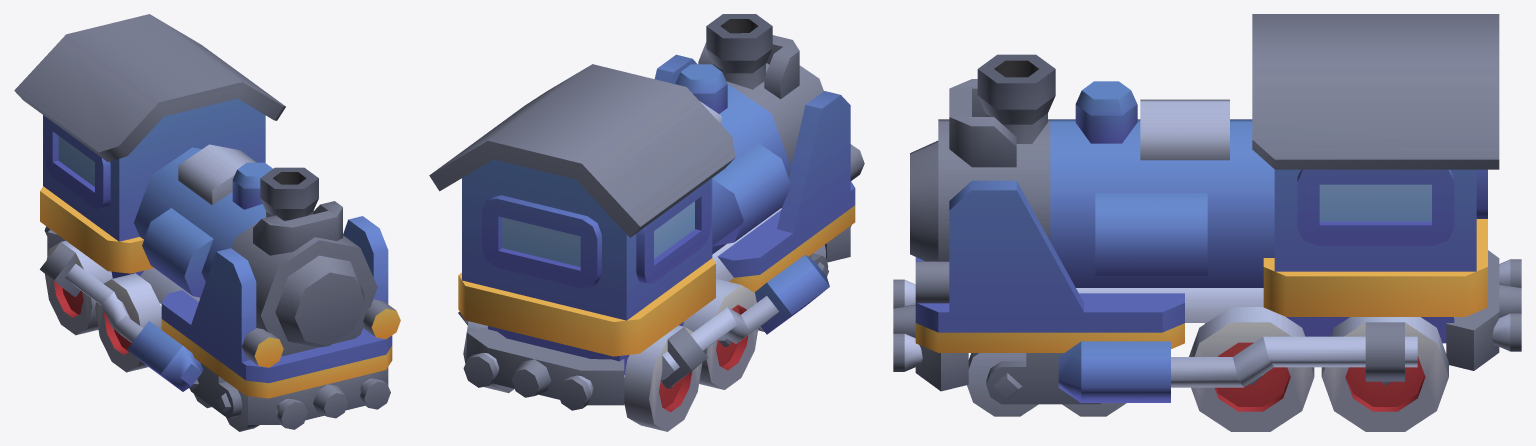
File: kenney-train-train-locomotive-c.glb
3 views of the same model, side by side, from view 1: azimuth 30°, elevation 25°; view 2: azimuth 150°, elevation 25°; view 3: azimuth 270°, elevation 25° (orthographic). The views are drawn at different scales.
Visible parts, largest first — view 1: train-locomotive-c, wheel (×2), wheels-front; view 2: train-locomotive-c, wheel (×2); view 3: train-locomotive-c, wheel (×2), wheels-front.
Part boxes in pixels (left/top/right/bottom): train-locomotive-c: left=14, top=14, right=400, bottom=429; wheel (×2): left=45, top=240, right=161, bottom=372; wheels-front: left=189, top=363, right=259, bottom=431; train-locomotive-c: left=429, top=14, right=864, bottom=410; wheel (×2): left=624, top=279, right=758, bottom=431; train-locomotive-c: left=893, top=14, right=1521, bottom=402; wheel (×2): left=1189, top=307, right=1448, bottom=431; wheels-front: left=967, top=353, right=1126, bottom=416.
Bounding box in the file's own units: 1.43 × 1.66 × 2.8.
Materials: 1 (1 with a texture image).
